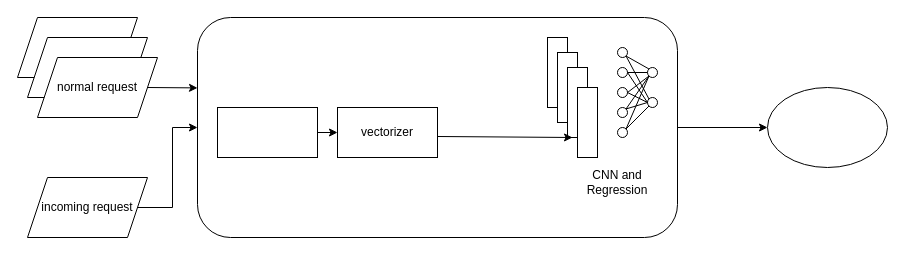
This 905x255 diagram has some shape labels left out. Here are the shapes that lost their labels. From the top down, the centre of each, then its label:
(267,132): tokenizer
(827,127): Result
